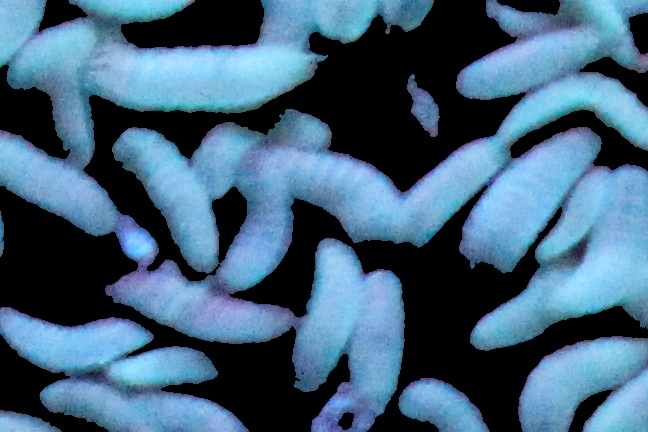larvae: (462, 133, 596, 264), (91, 45, 328, 112), (110, 128, 216, 270), (250, 137, 397, 239), (520, 334, 648, 432), (112, 278, 293, 344), (457, 25, 607, 103), (493, 75, 648, 150), (401, 137, 501, 251), (1, 130, 112, 228), (210, 157, 292, 288), (292, 244, 364, 389), (1, 306, 154, 371), (475, 260, 576, 347), (347, 270, 402, 407), (8, 14, 105, 89), (535, 170, 605, 263), (38, 377, 151, 432), (399, 373, 491, 432), (101, 351, 218, 386), (580, 372, 648, 430), (150, 393, 251, 432)
